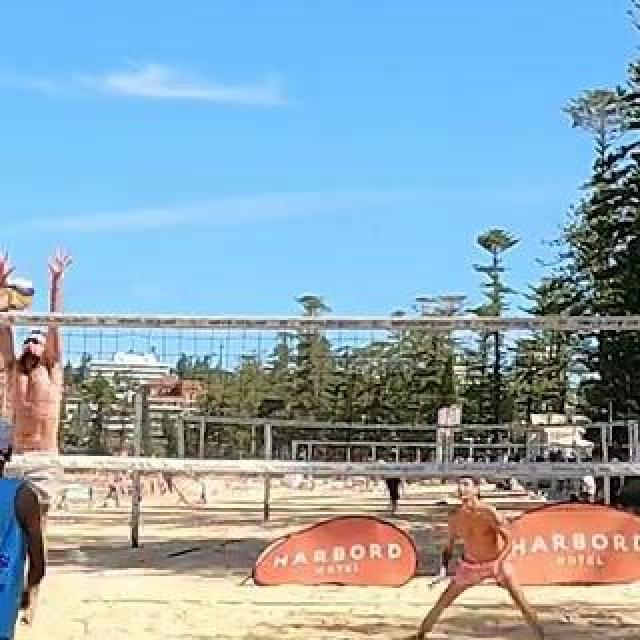volleyball: (3, 275, 37, 311)
